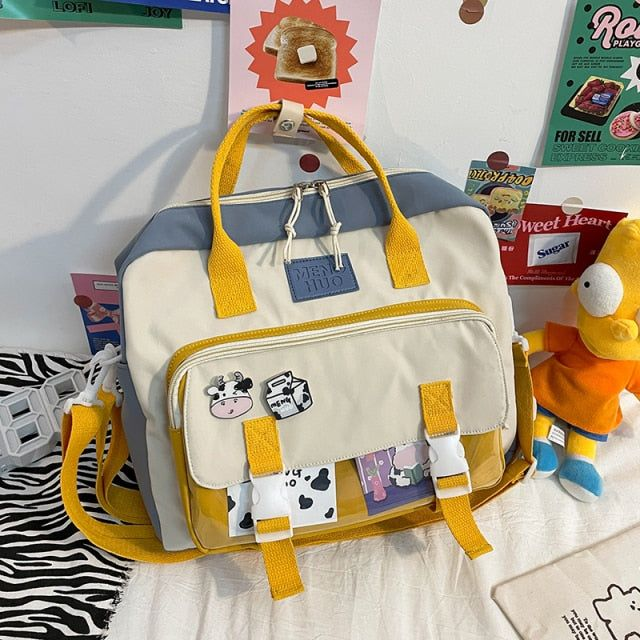nylon: (121, 168, 517, 555)
